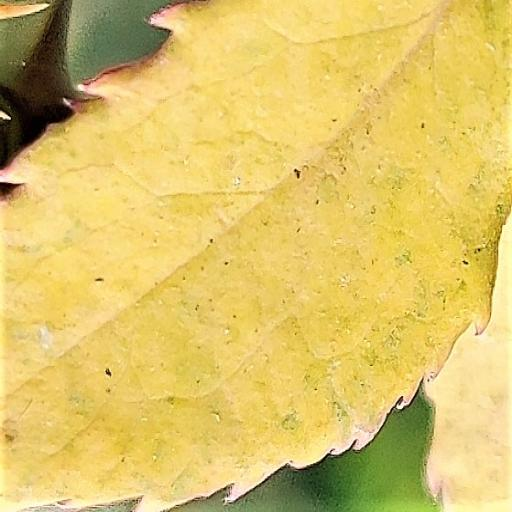red_mite: (0, 0, 511, 508)
